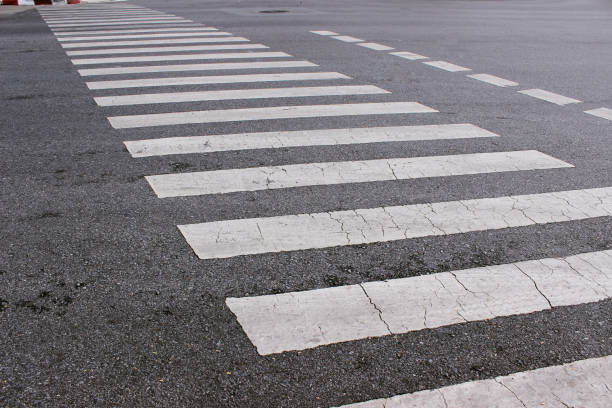zebracross: (52, 73, 437, 408)
